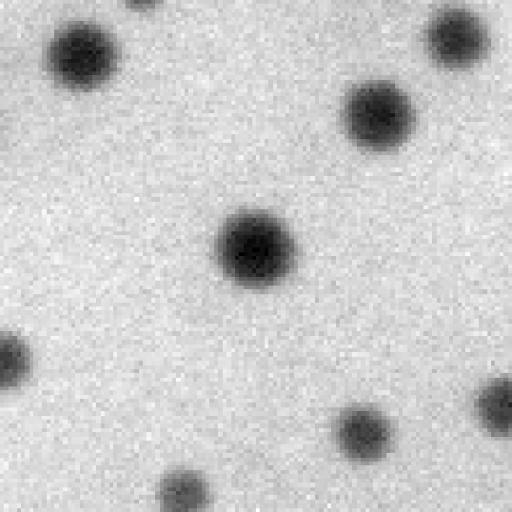Nanoparticles: (218, 204, 298, 296), (338, 75, 422, 157), (42, 18, 124, 96), (422, 6, 493, 75), (336, 398, 398, 465), (152, 463, 216, 512), (474, 373, 512, 442), (0, 328, 35, 397)
